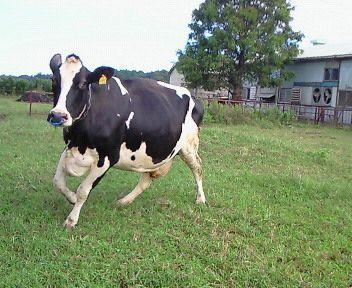cow: (42, 38, 237, 218)
